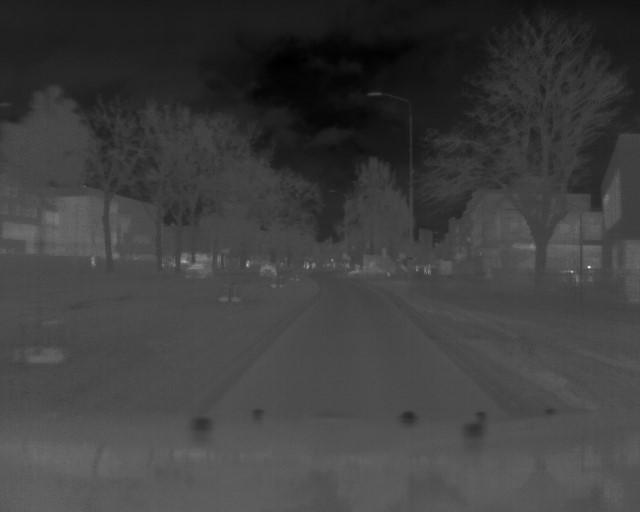car: (183, 262, 214, 278)
